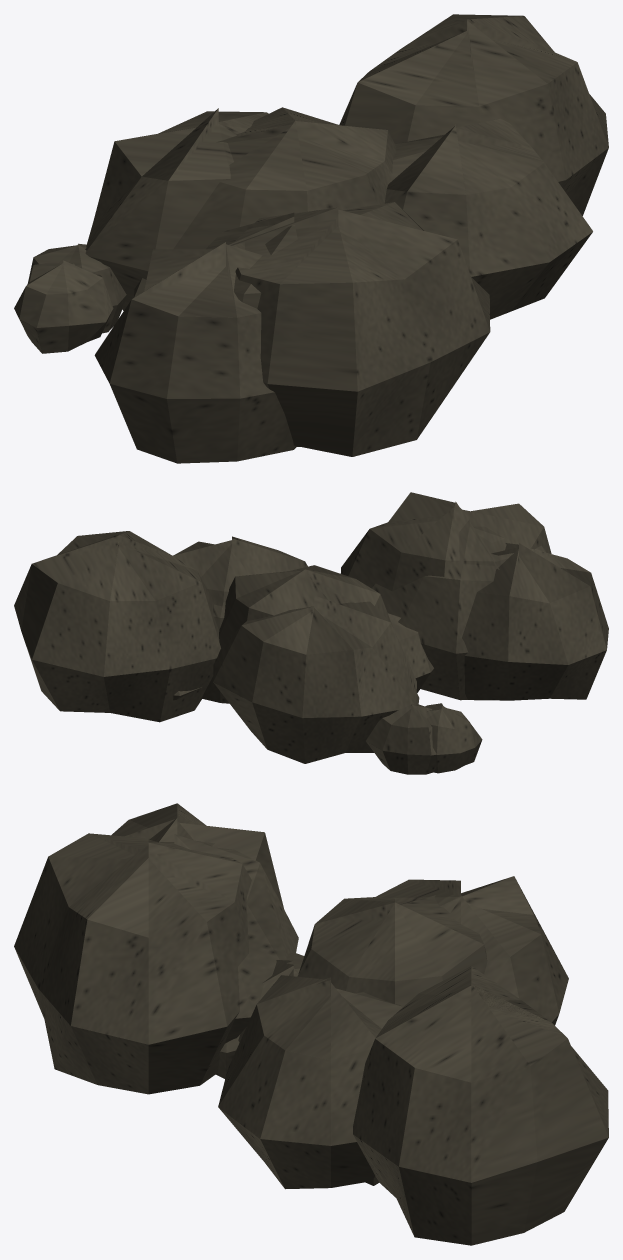
File: PROP-FA8578652230_lod1.glb
The picture shows the model from 3 angles, top to bottom: view 1: azimuth 30°, elevation 25°; view 2: azimuth 150°, elevation 25°; view 3: azimuth 270°, elevation 25°; orthographic projection. The views are drawn at different scales.
Visible parts, largest first — view 1: rock.001; view 2: rock.001; view 3: rock.001.
Boxes of the visible parts, left/top/right/bottom form: rock.001: left=14, top=14, right=608, bottom=463; rock.001: left=14, top=492, right=608, bottom=774; rock.001: left=14, top=803, right=608, bottom=1245.
Size of the model in its own units: 1.51 by 0.4713 by 1.2.
Materials: 1 (1 with a texture image).
